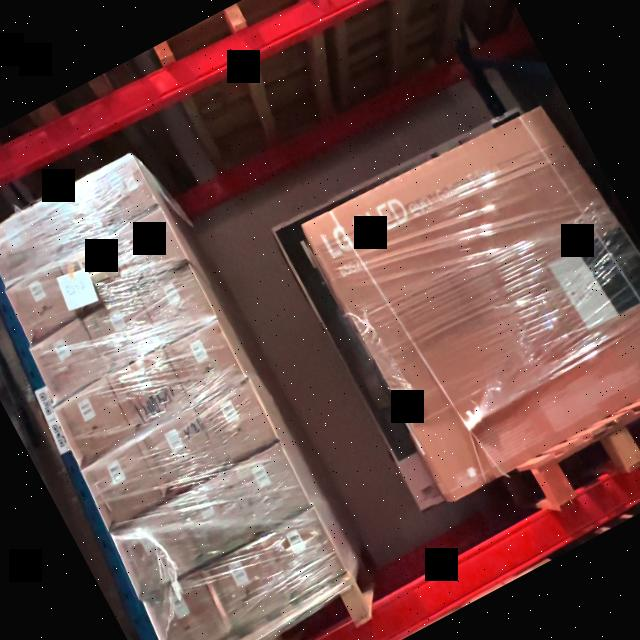box: (108, 501, 202, 594), (256, 507, 348, 602), (223, 439, 312, 534), (198, 541, 288, 632), (134, 410, 222, 498), (168, 474, 254, 562), (194, 382, 280, 470), (106, 348, 192, 434), (80, 438, 164, 526), (164, 320, 246, 406), (52, 379, 134, 463), (27, 318, 107, 399), (81, 291, 161, 371), (137, 266, 215, 346), (55, 232, 133, 311), (4, 262, 82, 340), (111, 206, 188, 284), (143, 571, 230, 640), (30, 180, 106, 258), (82, 152, 157, 230), (0, 210, 53, 282)
